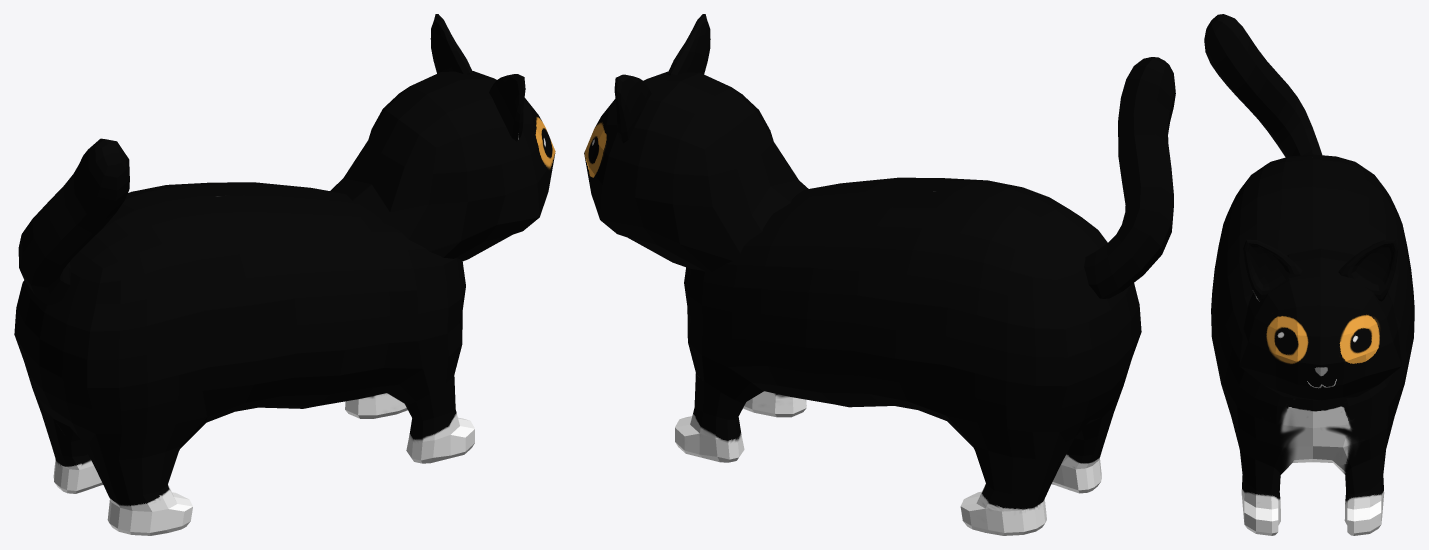
File: komur_Idle(1).fbx
The picture shows the model from 3 angles, left to right: view 1: azimuth 30°, elevation 25°; view 2: azimuth 150°, elevation 25°; view 3: azimuth 270°, elevation 25°; orthographic projection. The views are drawn at different scales.
Parts seen in each view (by area): view 1: komur; view 2: komur; view 3: komur.
Part boxes in pixels (x1,y1,x2,y2): komur: (14,14,555,535); komur: (584,14,1175,535); komur: (1204,14,1414,535).
Bounding box in the file's own units: 2.79 × 2.02 × 1.08.
